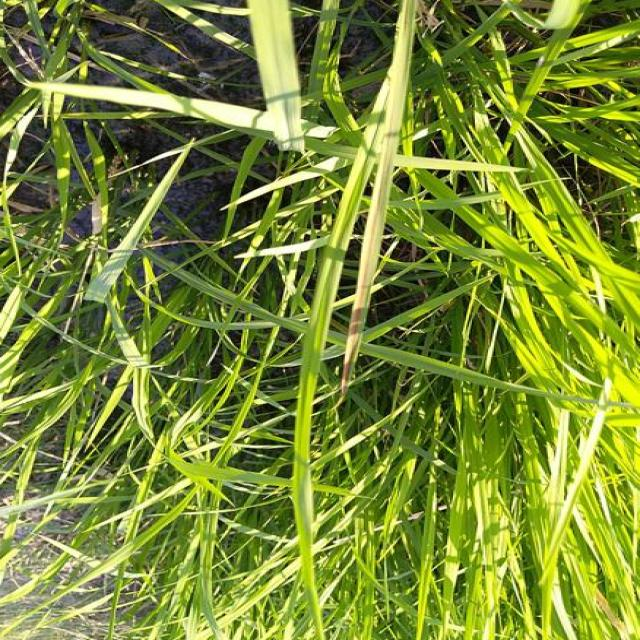Leaf Streak: (342, 0, 416, 389)
